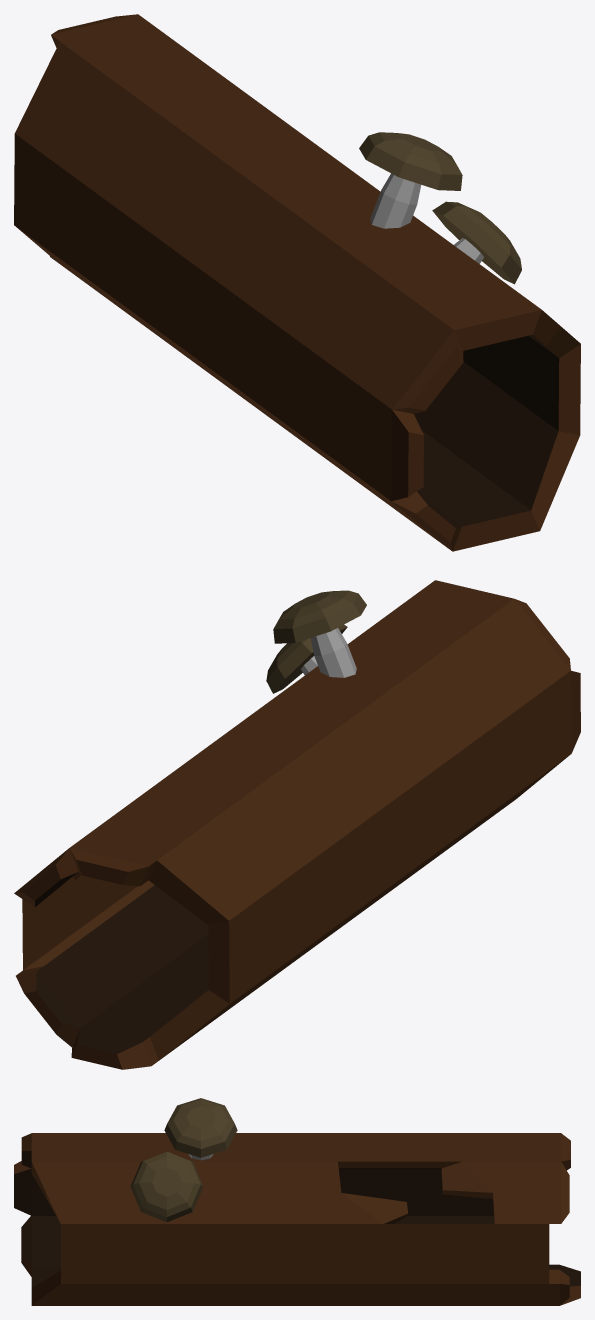
File: Fallen-Log-1.fbx
3 renders of one model, top to bottom at view 1: azimuth 30°, elevation 25°; view 2: azimuth 150°, elevation 25°; view 3: azimuth 270°, elevation 25°, orthographic. The views are drawn at different scales.
Visible parts, largest first — view 1: Cylinder.107; view 2: Cylinder.107; view 3: Cylinder.107.
Boxes of the visible parts, box(x1,y1,x2,y2) form: Cylinder.107: box(14, 14, 580, 551); Cylinder.107: box(14, 580, 580, 1069); Cylinder.107: box(14, 1098, 580, 1305).
Bounding box in the file's own units: 119 × 153 × 397.
